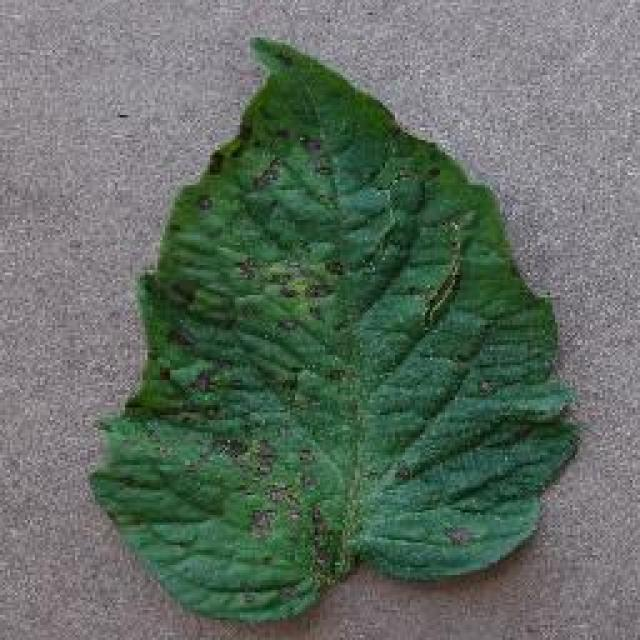Tomato Early blight leaf: (112, 36, 560, 632)
